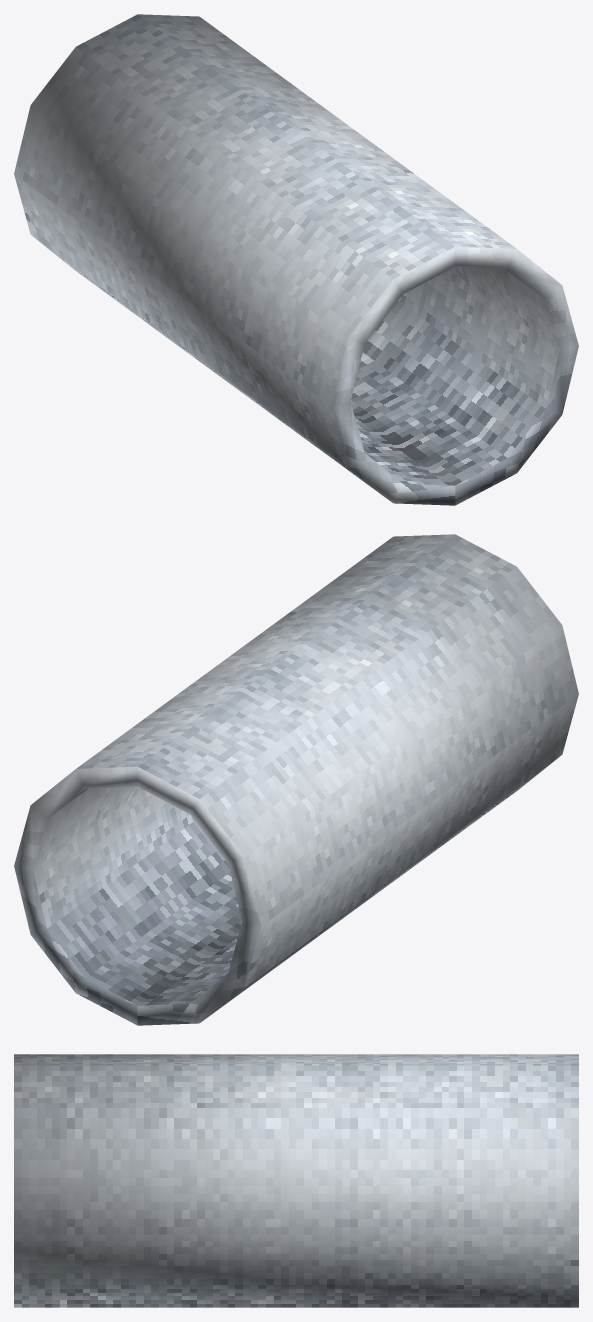
File: concrete_pipe.glb
3 views of the same model, one above another, from view 1: azimuth 30°, elevation 25°; view 2: azimuth 150°, elevation 25°; view 3: azimuth 270°, elevation 25° (orthographic). The views are drawn at different scales.
Visible parts, largest first — view 1: ConcretePipe; view 2: ConcretePipe; view 3: ConcretePipe.
Part boxes in pixels (box(x1,y1,x2,y2)): ConcretePipe: box(14, 14, 578, 505); ConcretePipe: box(14, 534, 578, 1025); ConcretePipe: box(14, 1054, 578, 1307).
Size of the model in its own units: 0.9 by 0.9 by 2.
1 material, 1 textured.
